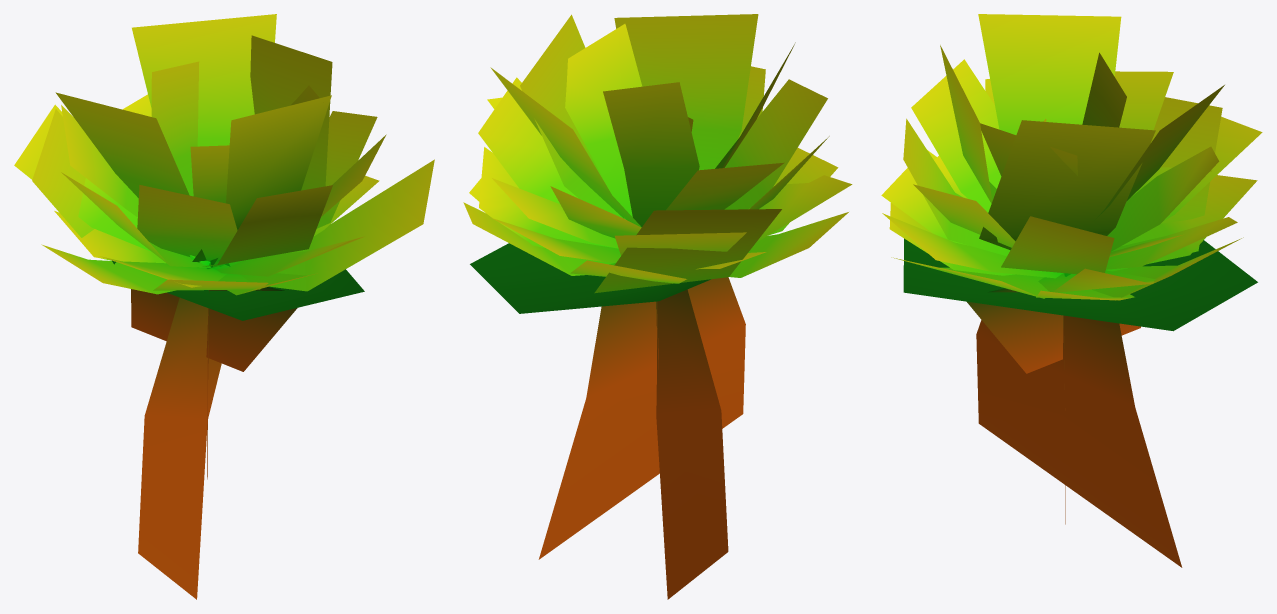
File: Water Cabbage_LOD2_Var3_sjdlV.fbx
3 renders of one model, left to right at view 1: azimuth 30°, elevation 25°; view 2: azimuth 150°, elevation 25°; view 3: azimuth 270°, elevation 25°, orthographic. The views are drawn at different scales.
Parts seen in each view (by area): view 1: _7154_Var3_LOD2; view 2: _7154_Var3_LOD2; view 3: _7154_Var3_LOD2.
Boxes of the visible parts, <box> form: _7154_Var3_LOD2: <box>14,14,434,599</box>; _7154_Var3_LOD2: <box>463,14,852,599</box>; _7154_Var3_LOD2: <box>881,14,1262,567</box>.
Size of the model in its own units: 19.16 by 27.61 by 17.53.
